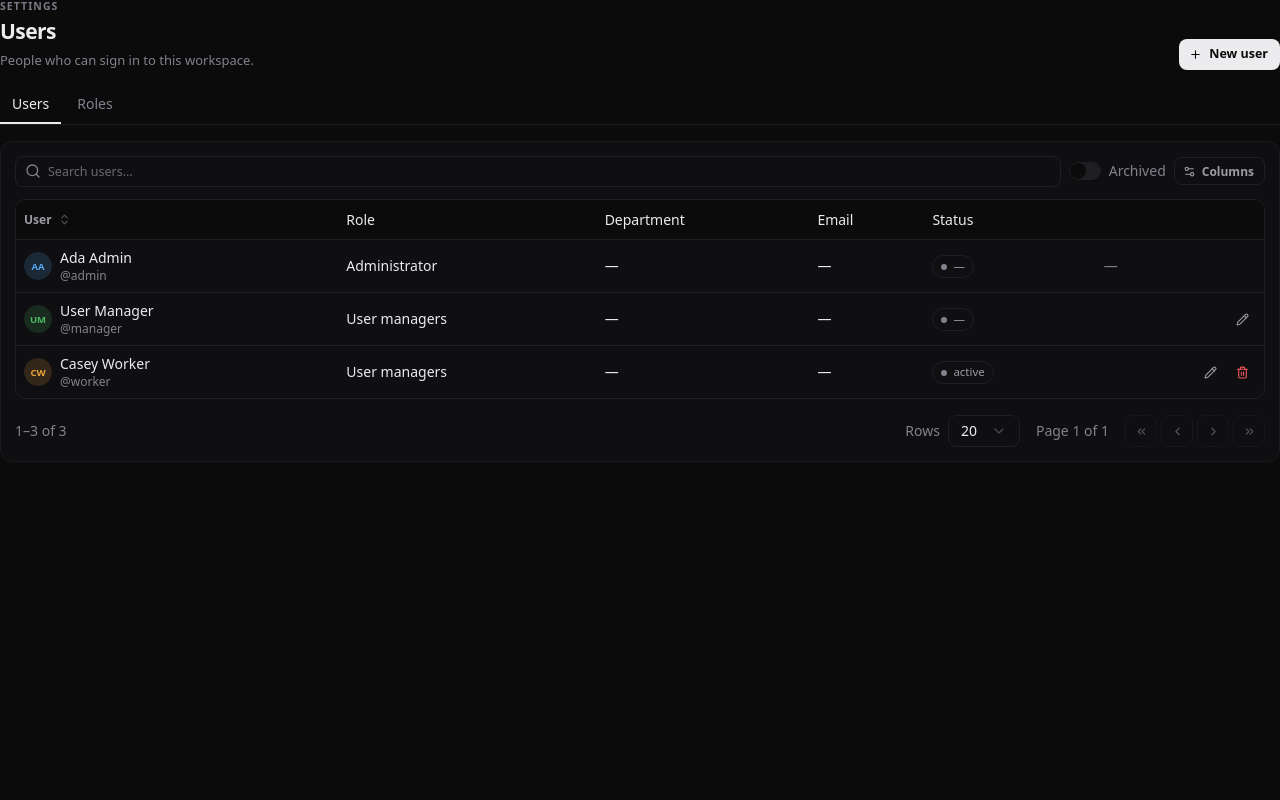
Test: administration permission controls › keeps administrator, self, role, password, and private-field restrictions visible for a delegated user manager
The image size is (1280, 800).
Check: the text "@admin" is shown, box [16,240,1264,293]
Check: the text "@manager" is shown, box [16,293,1264,346]
Click the button named "Edit" in the row of "CW". click: point(1210, 372)
box: [1196,358,1224,386]
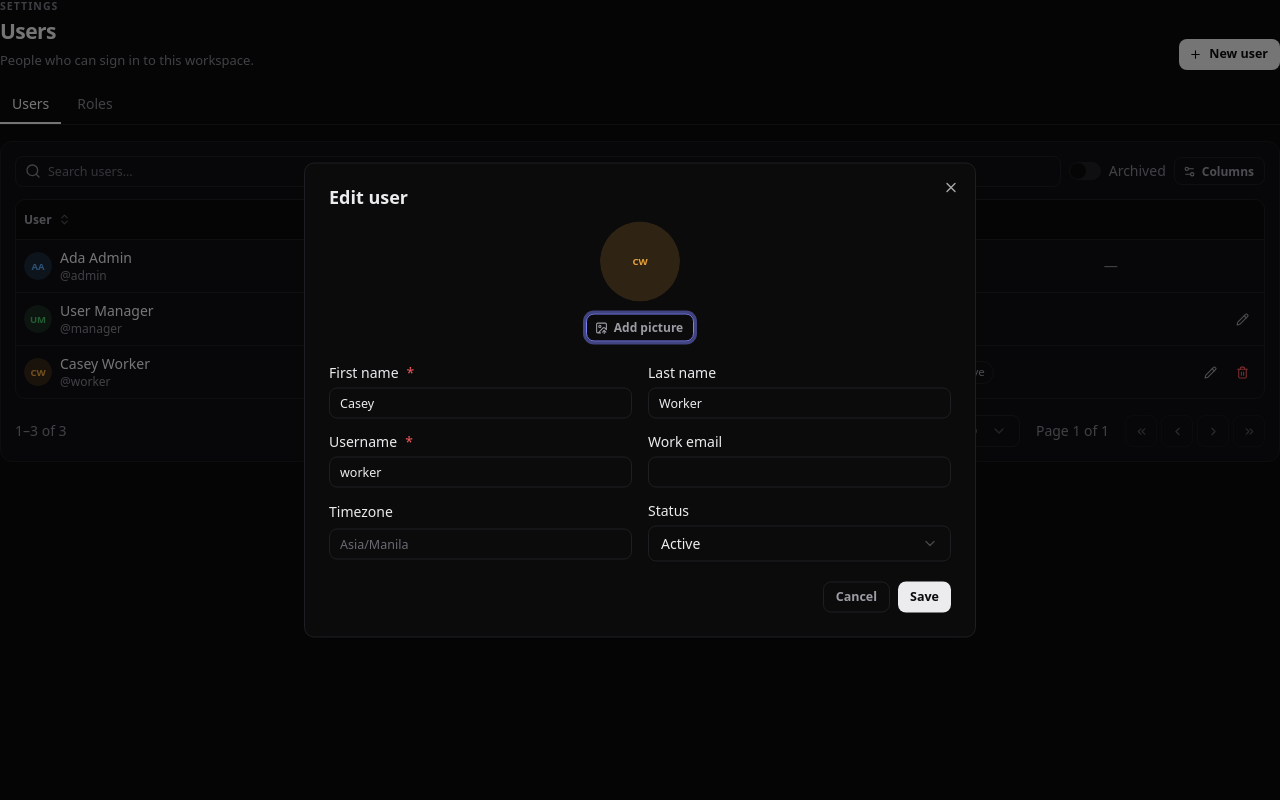
Check: the heading "Edit user" is shown, box [329,184,408,208]
Check: the dropdown named "Status" is shown, box [648,526,951,562]
